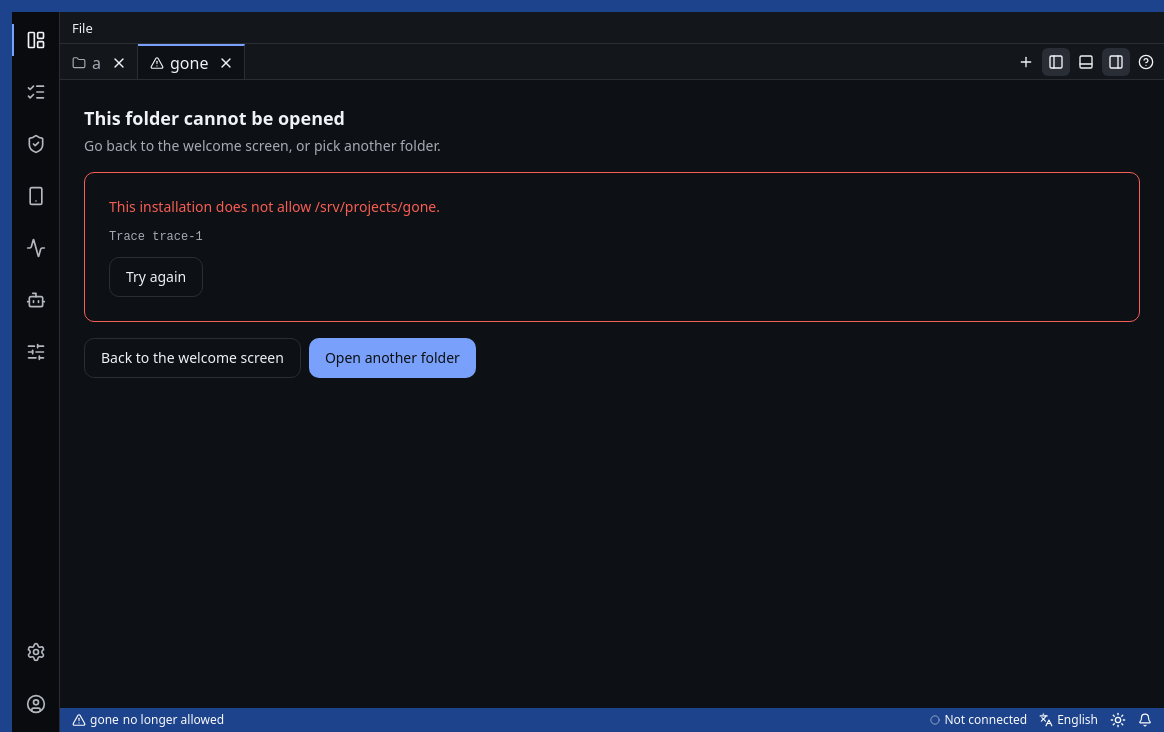
Scenario: a tab whose folder cannot be used — plan 06, S-104, S-105 › opens in its error state and leaves the other tabs working — S-104
The width and height of the screenshot is (1164, 732).
Expected: the button named "No longer allowed" is shown, [138,44,212,79]
Click the button "a": (82, 62) [60,44,105,80]
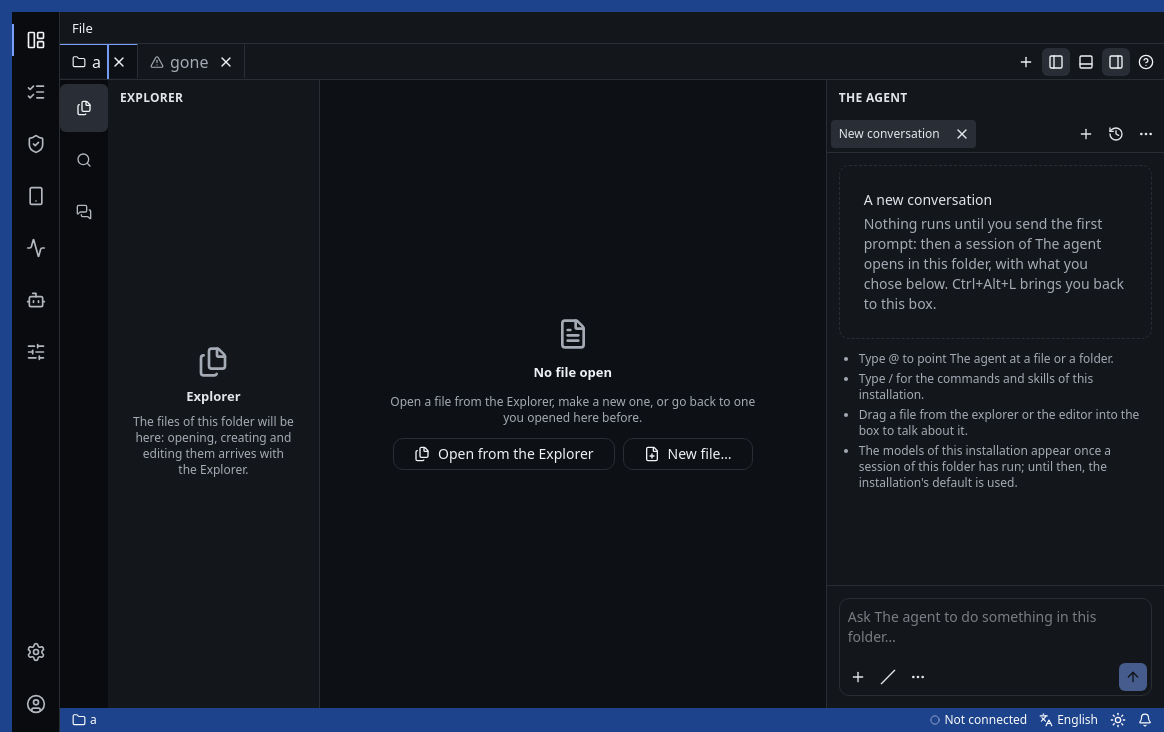
Result: the element named "How the conversation starts" is shown at [904,663,932,691]
